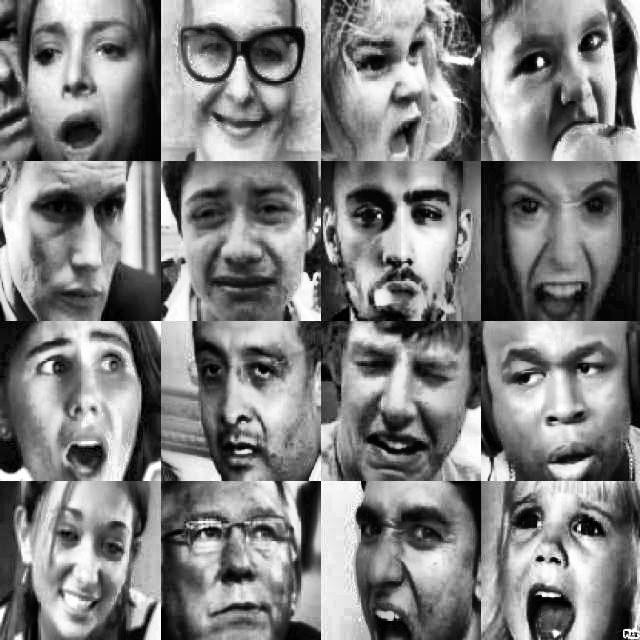angry: (494, 332, 623, 476), (343, 495, 457, 639), (181, 328, 295, 470), (342, 20, 433, 157)
fear: (494, 167, 623, 315), (22, 6, 148, 154), (501, 484, 620, 640), (23, 322, 140, 476)
happy: (177, 16, 309, 153), (36, 494, 130, 638)
neutral: (499, 9, 622, 157), (338, 169, 462, 313), (175, 500, 293, 631)
sad: (166, 170, 306, 313), (338, 332, 464, 476), (19, 172, 137, 310)
